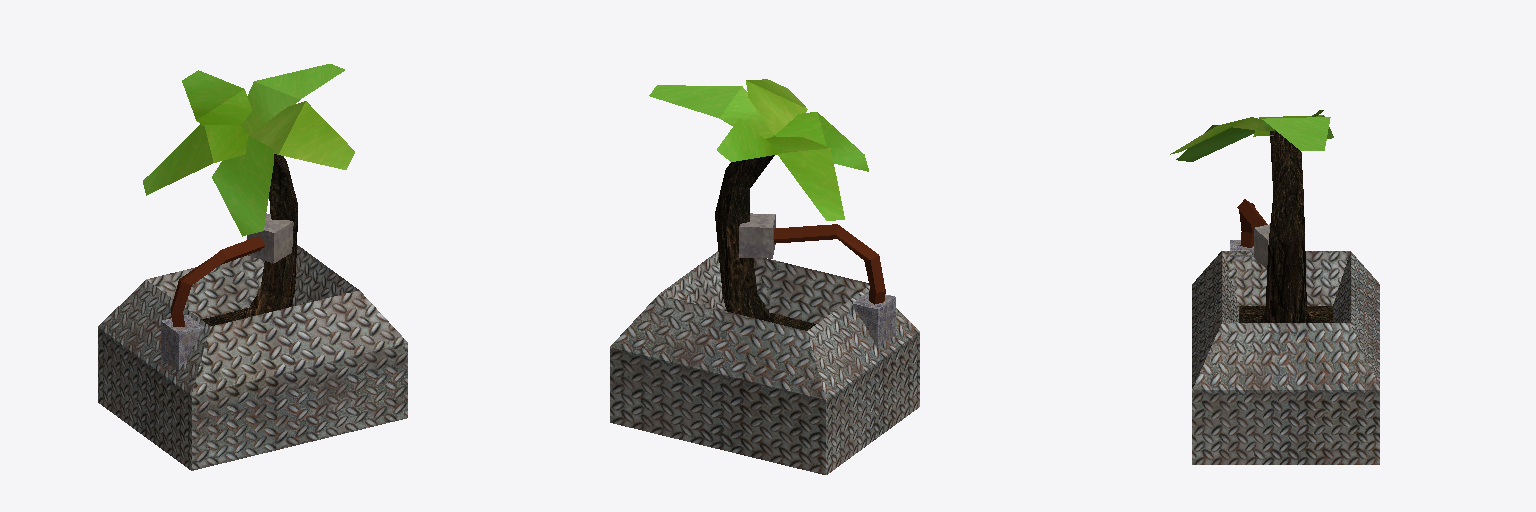
3 renders of one model, left to right at view 1: azimuth 30°, elevation 25°; view 2: azimuth 150°, elevation 25°; view 3: azimuth 270°, elevation 25°, orthographic.
Visible parts, largest first — view 1: Cube; view 2: Cube; view 3: Cube.
Boxes of the visible parts, x1=… form: Cube: x1=98, y1=64, x2=407, y2=470; Cube: x1=610, y1=79, x2=919, y2=474; Cube: x1=1170, y1=110, x2=1379, y2=464.
Bounding box in the file's own units: 3 × 4.14 × 2.67.
5 materials, 4 textured.